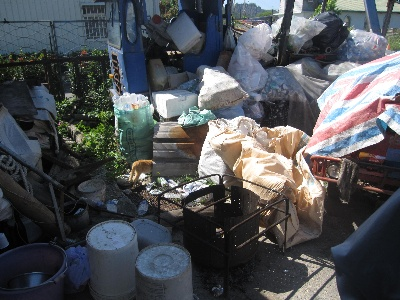bucket: (82, 219, 140, 300), (1, 240, 69, 300), (133, 243, 194, 300)
plastic_bag: (197, 114, 326, 247), (298, 51, 400, 161), (112, 105, 156, 170), (193, 62, 250, 110), (258, 64, 309, 110), (228, 41, 269, 97), (337, 24, 389, 64)
styrofoam: (147, 88, 199, 119)
